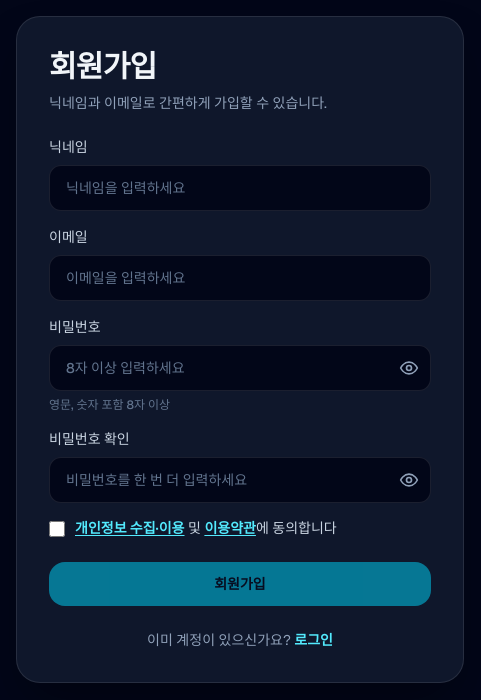
it: 회원가입 폼 UX › 규칙 안내('영문, 숫자 포함 8자 이상')가 항상 보이고, 규칙 위반 시 blur 후 인라인 에러로 바뀐다
Expected: the text "영문, 숫자 포함 8자 이상" is shown, [49,397,170,413]
Type "abcdefgh" into the password field with placeholder "8자 이상 입력하세요" at (240, 368), box [49,345,431,391]
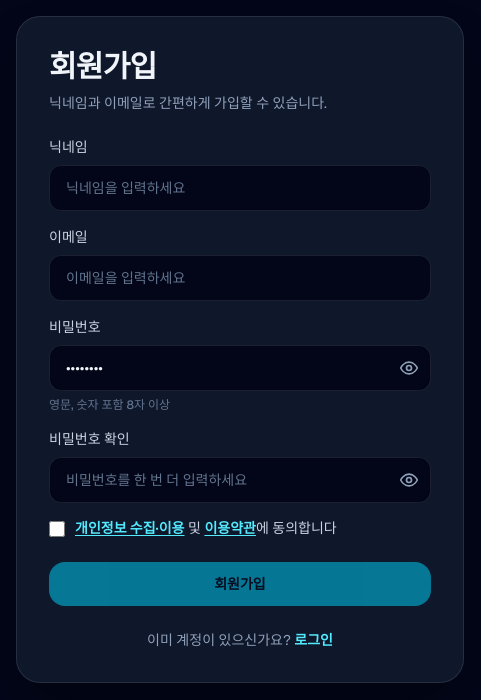
Leave the password field with placeholder "8자 이상 입력하세요", box [49,345,431,391]
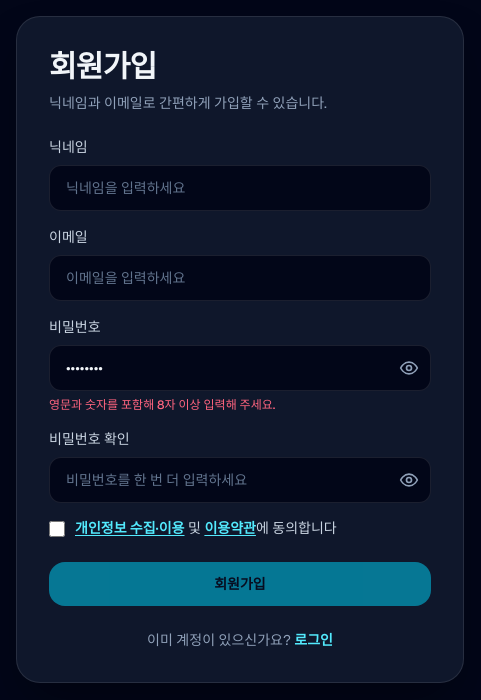
Expected: the text "영문과 숫자를 포함해 8자 이상 입력해 주세요." is shown, [49,397,275,413]
